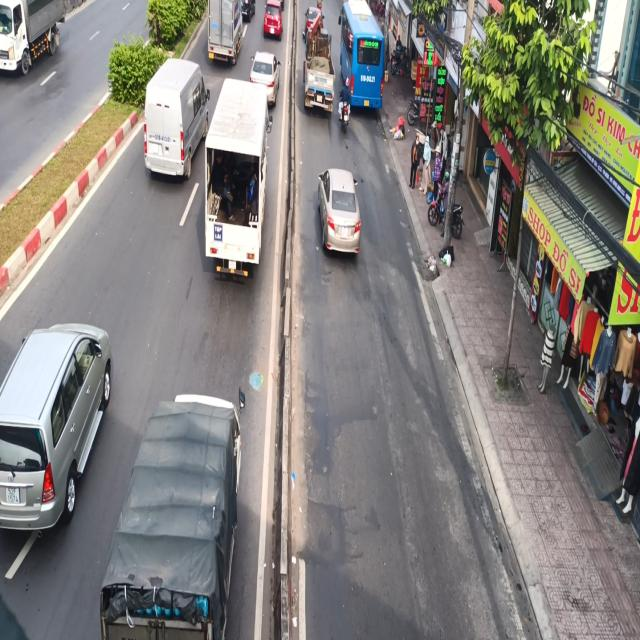car: (0, 319, 118, 528), (146, 59, 207, 182), (316, 161, 365, 264)
truck: (106, 392, 246, 640), (208, 79, 274, 284)
